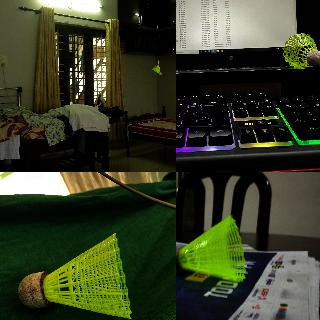shuttlecock: (17, 233, 131, 319), (176, 216, 245, 283), (282, 32, 319, 67), (152, 65, 160, 75)
